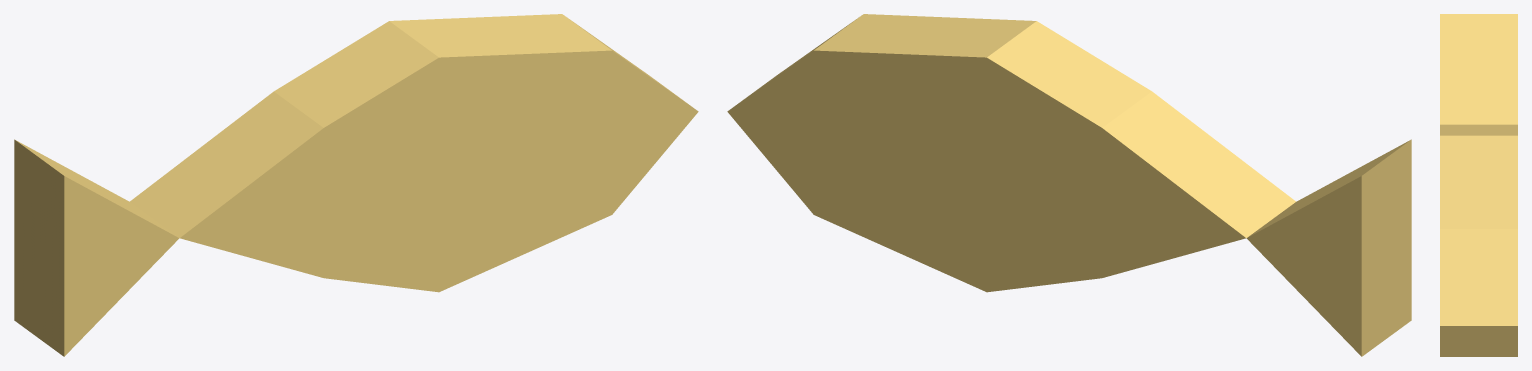
File: goldfish.glb
The picture shows the model from 3 angles, left to right: view 1: azimuth 30°, elevation 25°; view 2: azimuth 150°, elevation 25°; view 3: azimuth 270°, elevation 25°; orthographic projection. The views are drawn at different scales.
Size of the model in its own units: 1.98 by 0.7 by 0.27.
